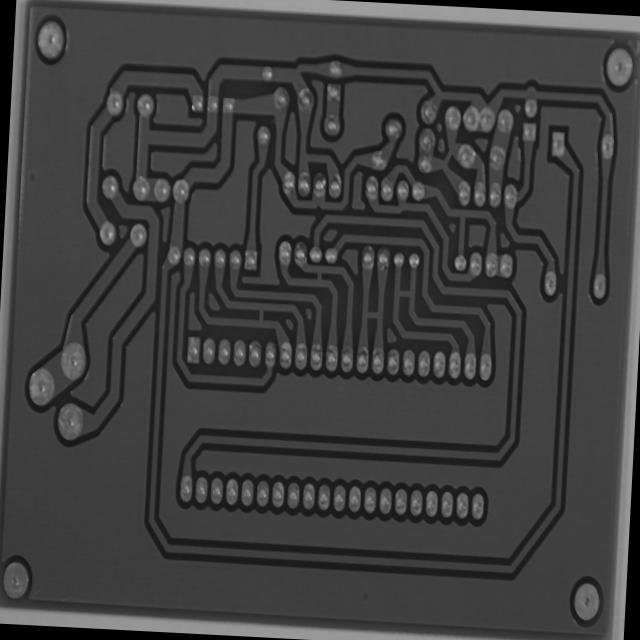short: (439, 134, 461, 174), (358, 302, 386, 332), (309, 261, 331, 292), (250, 300, 272, 331), (392, 282, 417, 306)
